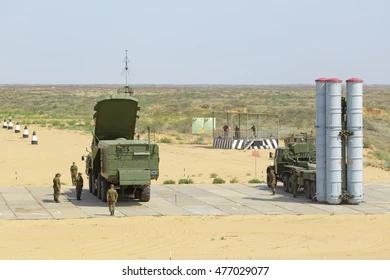MIL_SAM_TEL: (260, 74, 369, 208)
